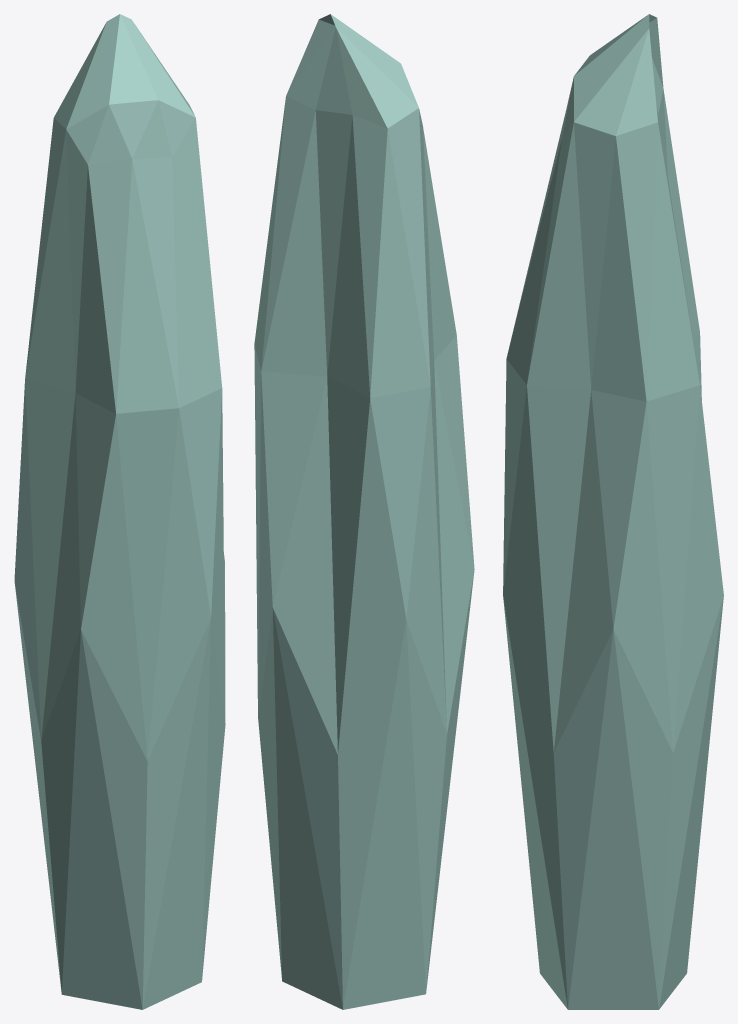
File: monolithV2.fbx
3 views of the same model, side by side, from view 1: azimuth 30°, elevation 25°; view 2: azimuth 150°, elevation 25°; view 3: azimuth 270°, elevation 25° (orthographic). The views are drawn at different scales.
Visible parts, largest first — view 1: Icosphere; view 2: Icosphere; view 3: Icosphere.
Boxes of the visible parts, x1=… form: Icosphere: x1=14, y1=14, x2=225, y2=1009; Icosphere: x1=254, y1=14, x2=474, y2=1009; Icosphere: x1=503, y1=14, x2=723, y2=1009.
Size of the model in its own units: 151 by 743 by 153.
